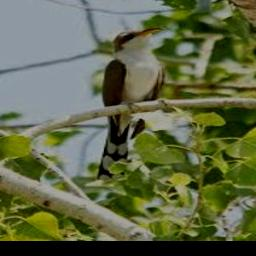Cuckoo: (97, 28, 167, 183)
